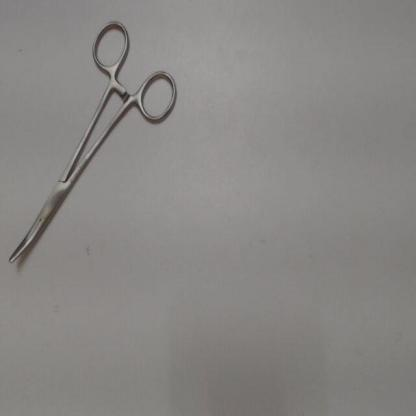Crile Artery Forceps: (2, 14, 183, 274)
